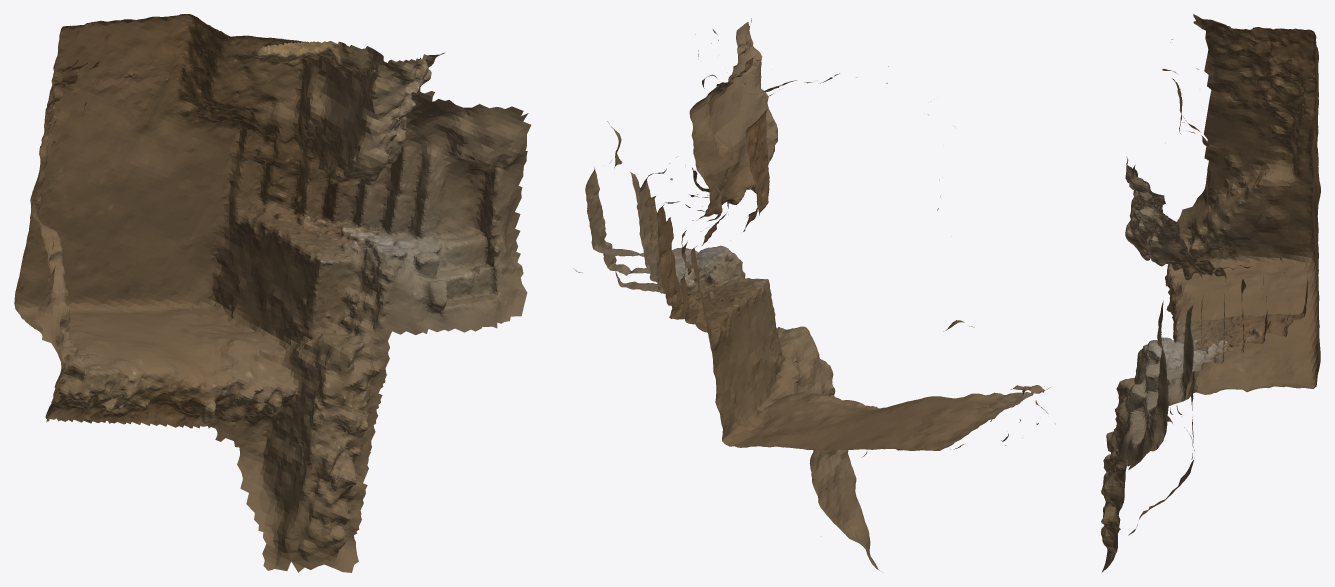
Rendered from 849_PC2_Cave_AA_3D_3.glb.
3 views of the same model, side by side, from view 1: azimuth 30°, elevation 25°; view 2: azimuth 150°, elevation 25°; view 3: azimuth 270°, elevation 25° (orthographic). The views are drawn at different scales.
Visible parts, largest first — view 1: 849_PC2_Cave_AA_3D; view 2: 849_PC2_Cave_AA_3D; view 3: 849_PC2_Cave_AA_3D.
Boxes of the visible parts, box(x1,y1,x2,y2) form: 849_PC2_Cave_AA_3D: box(14, 14, 531, 572); 849_PC2_Cave_AA_3D: box(573, 18, 1055, 571); 849_PC2_Cave_AA_3D: box(1101, 14, 1320, 572).
Size of the model in its own units: 6.33 by 6.49 by 2.74.
